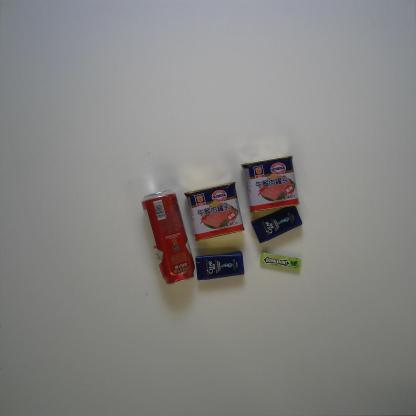Alcohol: (141, 189, 196, 286)
Canned Food: (184, 181, 245, 242), (240, 155, 300, 213)
Gum: (260, 251, 302, 270)
Personal Hygiene: (250, 205, 302, 244), (195, 251, 245, 281)
